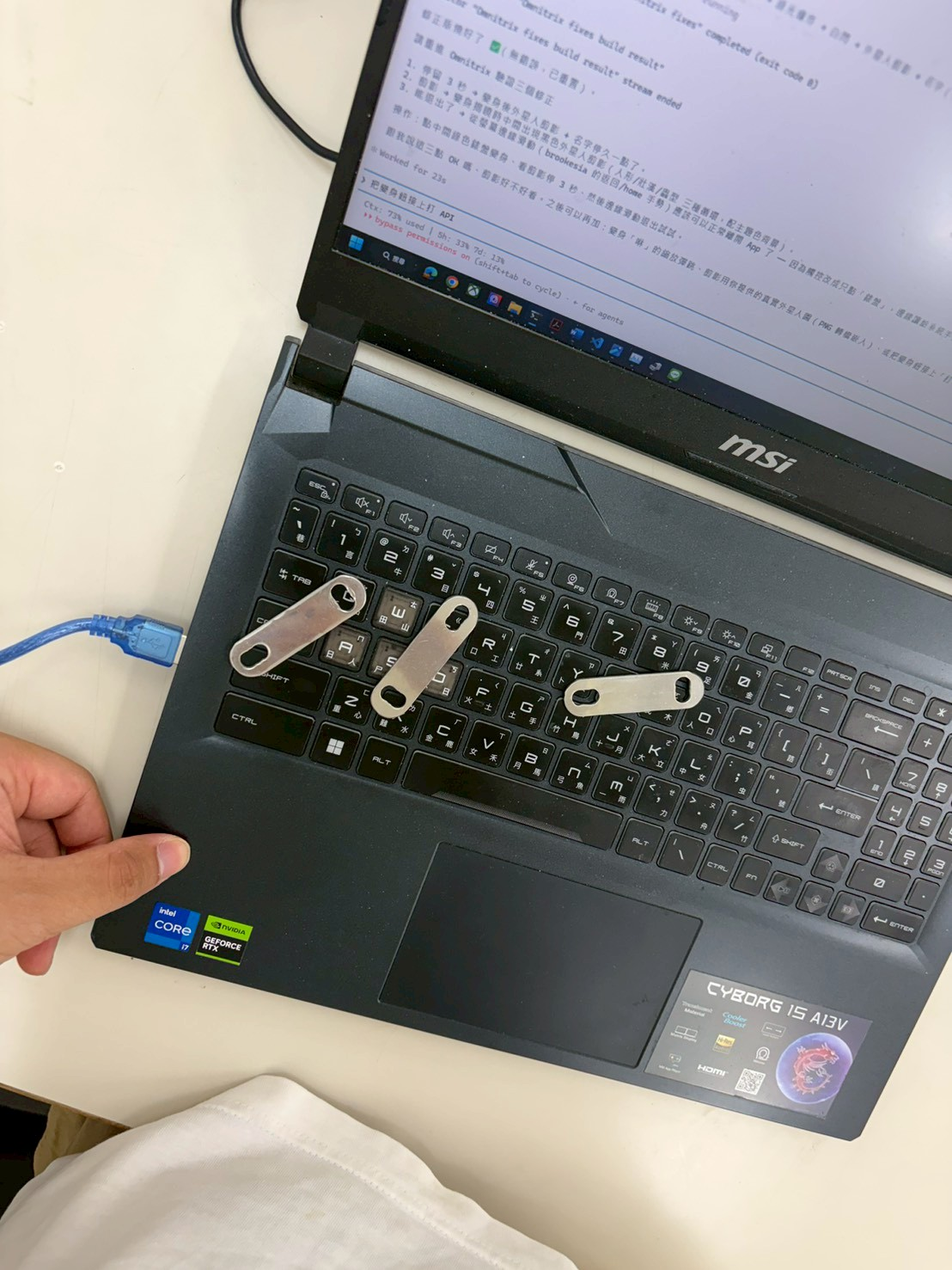Fe: (230, 567, 365, 685), (375, 595, 480, 724), (554, 662, 704, 721)
